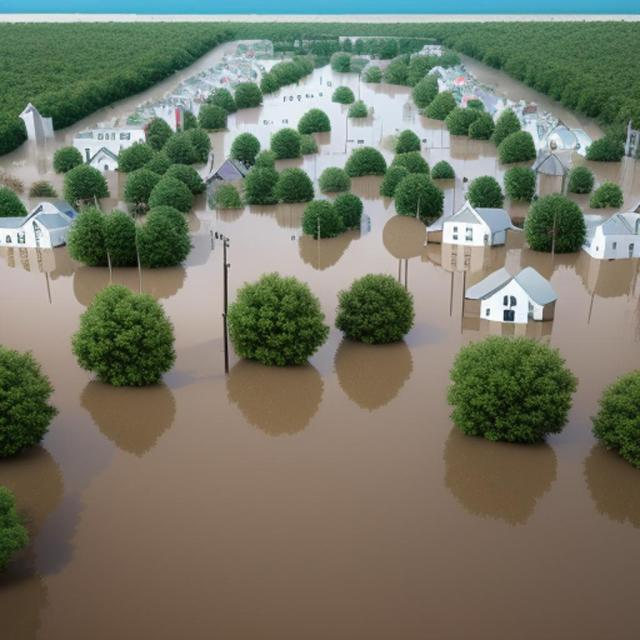flood: (0, 198, 640, 640), (57, 452, 640, 640), (210, 64, 506, 215), (0, 43, 227, 204), (425, 231, 640, 298), (461, 53, 605, 140), (561, 152, 640, 218), (98, 171, 126, 212), (351, 175, 383, 199), (111, 269, 138, 290), (354, 54, 391, 69), (339, 35, 400, 43), (411, 44, 444, 57)
house: (463, 261, 559, 326), (0, 196, 75, 252), (440, 196, 511, 252), (69, 124, 149, 168), (585, 200, 640, 261), (530, 153, 572, 198), (207, 156, 247, 183)
